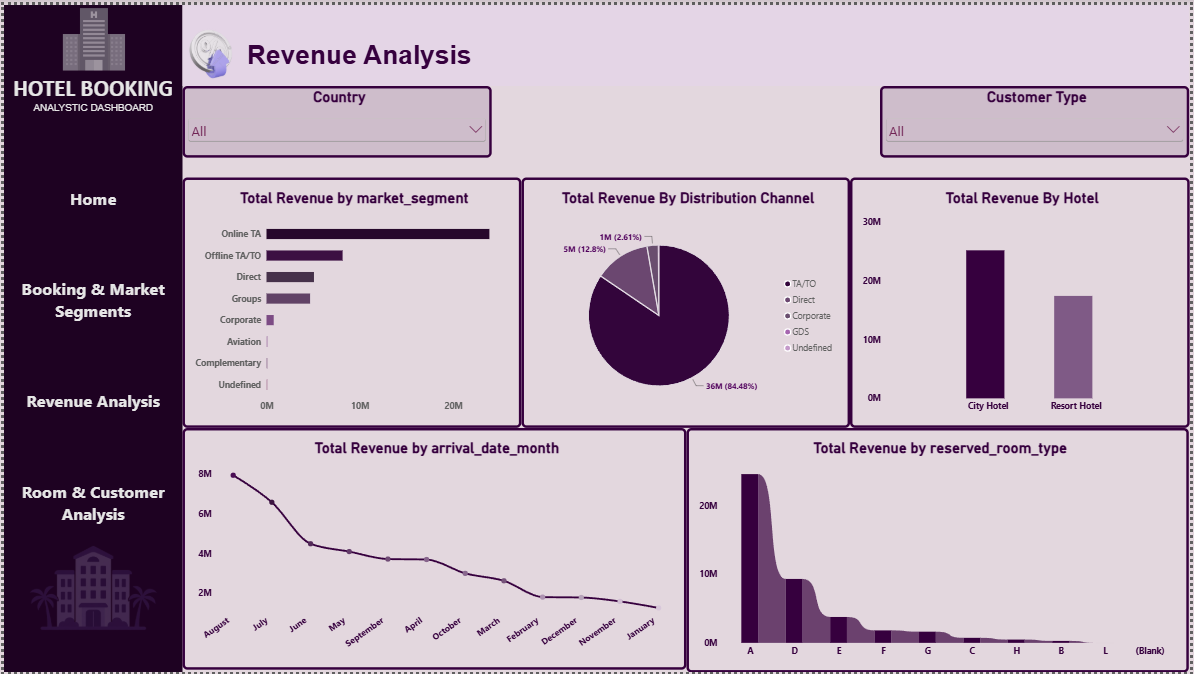

Layout of this report page (visuals, bound fields, positions):
{"tool":"powerbi","page":{"name":"Revenue Analysis","canvas":[1920,1080],"ordinal":2},"visuals":[{"type":"textbox","box":[10,0,280,280],"z":0},{"type":"slicer","title":"Country","fields":{"Values":["Dim Country.country"]},"box":[289,131.2,500.3,116],"z":9000},{"type":"clusteredColumnChart","title":"Total Revenue By Hotel","fields":{"Category":["Dim Hotel.hotel"],"Y":["My Measures.Total Revenue"]},"box":[1369.9,279.3,550,405.6],"z":10000},{"type":"pieChart","title":"Total Revenue By Distribution Channel","fields":{"Category":["Dim Market.distribution_channel"],"Y":["My Measures.Total Revenue"]},"box":[838,279.3,531.9,405.6],"z":11000},{"type":"ribbonChart","fields":{"Category":["Dim Room.reserved_room_type"],"Y":["My Measures.Total Revenue"]},"box":[1105.1,684.9,813.7,395.9],"z":12000},{"type":"barChart","fields":{"Category":["Dim Market.market_segment"],"Y":["My Measures.Total Revenue"]},"box":[289,279.3,548.9,405.6],"z":13000},{"type":"slicer","title":"Customer Type","fields":{"Values":["Dim Customer.customer_type"]},"box":[1418.4,131.2,500.3,116],"z":14001},{"type":"shape","box":[0,0,289,1080.8],"z":14002},{"type":"shape","box":[289,0,1629.8,131.2],"z":14003},{"type":"textbox","box":[393.5,55.9,488.2,85],"z":14004},{"type":"pageNavigator","box":[0,235.6,289,648.5],"z":14005},{"type":"image","box":[0,840.4,289,221],"z":14006},{"type":"lineChart","fields":{"Category":["Dim Date.arrival_date_month"],"Y":["My Measures.Total Revenue"]},"box":[289,684.9,816.1,391],"z":14008},{"type":"image","box":[48.6,0,194,111],"z":14009},{"type":"textbox","box":[0,111.7,289,97.2],"z":14010},{"type":"image","box":[242.9,19.4,179.7,111.7],"z":14011}]}

Visuals, with their boxes in screenshot pixels (x1, y1, x2, y2), scaled from the page's 1920x1080 canvas onto the 1194x674 screenshot:
textbox: x1=6 y1=0 x2=180 y2=175
"Country" slicer: x1=180 y1=82 x2=491 y2=154
"Total Revenue By Hotel" clusteredColumnChart: x1=852 y1=174 x2=1193 y2=427
"Total Revenue By Distribution Channel" pieChart: x1=521 y1=174 x2=852 y2=427
ribbonChart - Dim Room.reserved_room_type x My Measures.Total Revenue: x1=687 y1=427 x2=1193 y2=673
barChart - Dim Market.market_segment x My Measures.Total Revenue: x1=180 y1=174 x2=521 y2=427
"Customer Type" slicer: x1=882 y1=82 x2=1193 y2=154
shape: x1=0 y1=0 x2=180 y2=673
shape: x1=180 y1=0 x2=1193 y2=82
textbox: x1=245 y1=35 x2=548 y2=88
pageNavigator: x1=0 y1=147 x2=180 y2=552
image: x1=0 y1=524 x2=180 y2=662
lineChart - Dim Date.arrival_date_month x My Measures.Total Revenue: x1=180 y1=427 x2=687 y2=671
image: x1=30 y1=0 x2=151 y2=69
textbox: x1=0 y1=70 x2=180 y2=130
image: x1=151 y1=12 x2=263 y2=82
